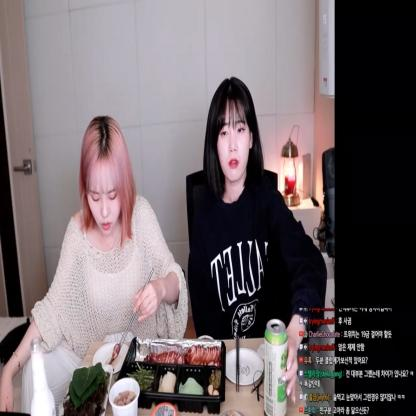streamer: (0, 114, 188, 416), (188, 77, 328, 405)
